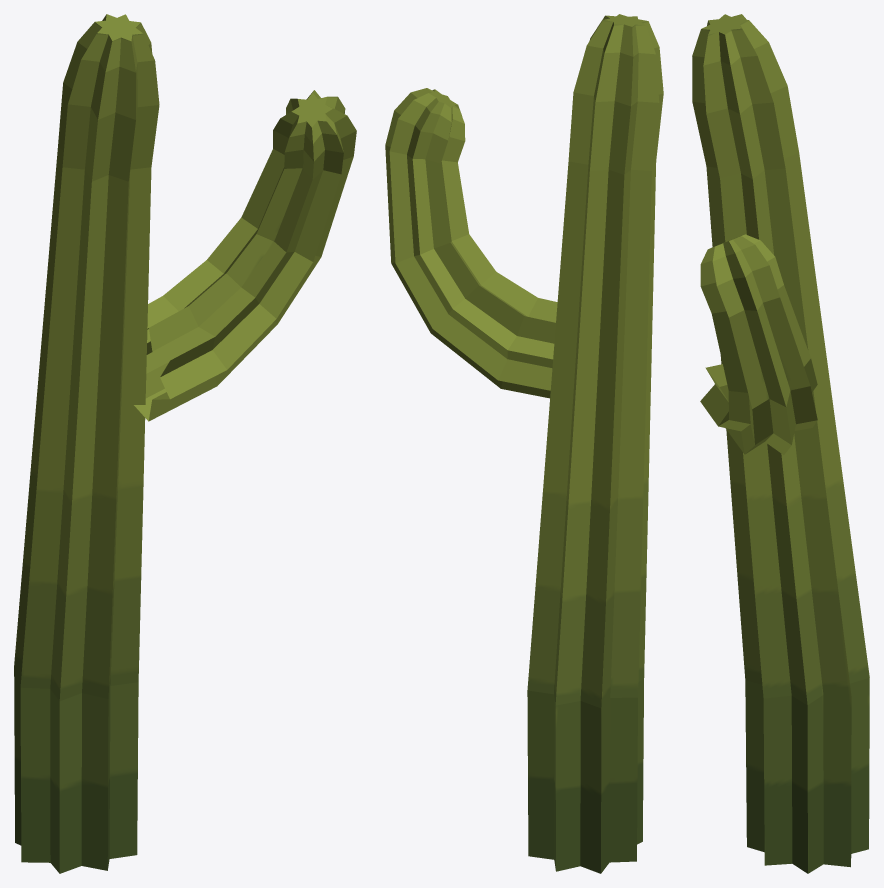
File: cactus1.fbx
3 views of the same model, side by side, from view 1: azimuth 30°, elevation 25°; view 2: azimuth 150°, elevation 25°; view 3: azimuth 270°, elevation 25° (orthographic). The views are drawn at different scales.
Parts seen in each view (by area): view 1: Cylinder.007; view 2: Cylinder.007; view 3: Cylinder.007.
Boxes of the visible parts, box(x1,y1,x2,y2) form: Cylinder.007: box(14, 14, 356, 873); Cylinder.007: box(385, 14, 663, 873); Cylinder.007: box(692, 14, 869, 873).
Bounding box in the file's own units: 312 × 865 × 168.
